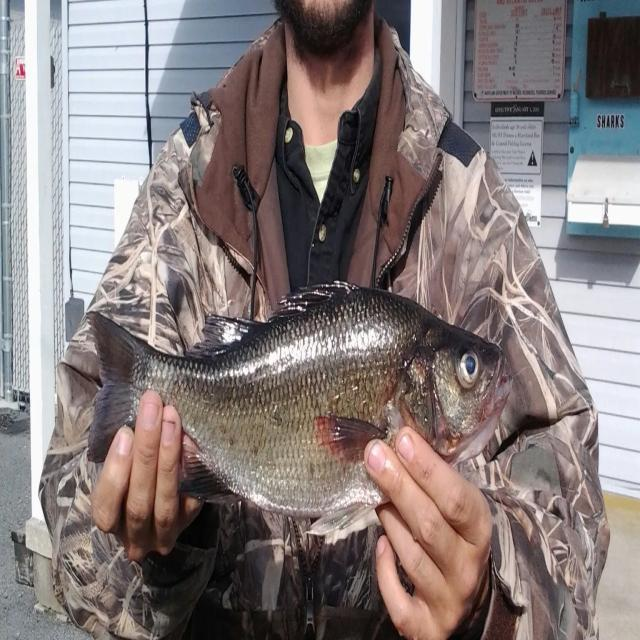Perch - White: (89, 283, 511, 535)
